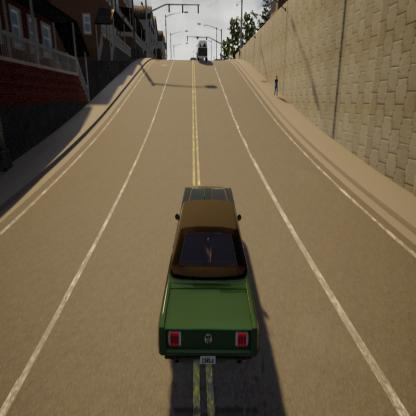Cars: (151, 156, 266, 385), (188, 25, 224, 78)
Pedestrian: (265, 65, 284, 110)
